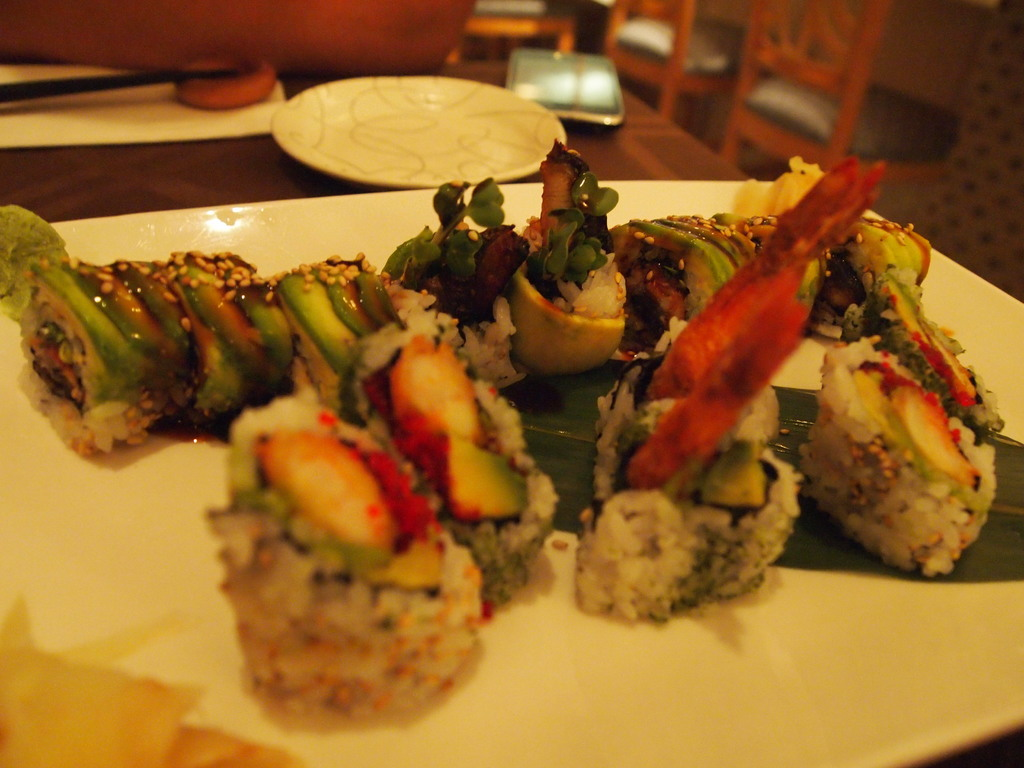sushi: (23, 154, 996, 735), (800, 345, 993, 570)
